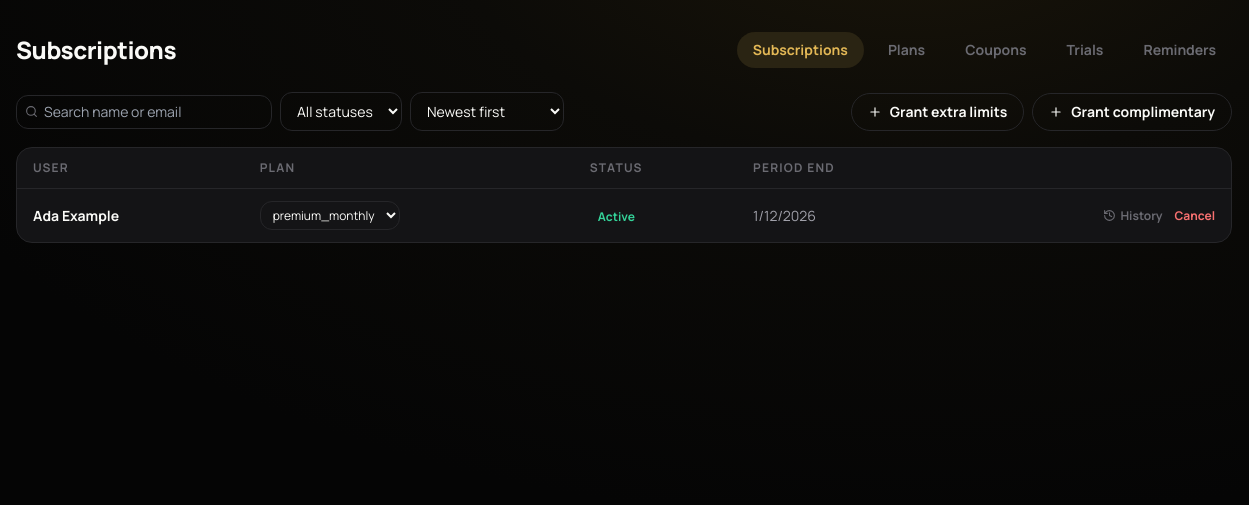
Subscriptions (admin) › shows a confirmation naming how many subscribers had auto-renew turned off when archiving a plan
Expected: the table with test id "admin-subscriptions-table" is shown, [17,148,1231,242]
Click the button with test id "admin-subscriptions-tab-plans".
click(907, 50)  # box [872,32,941,68]
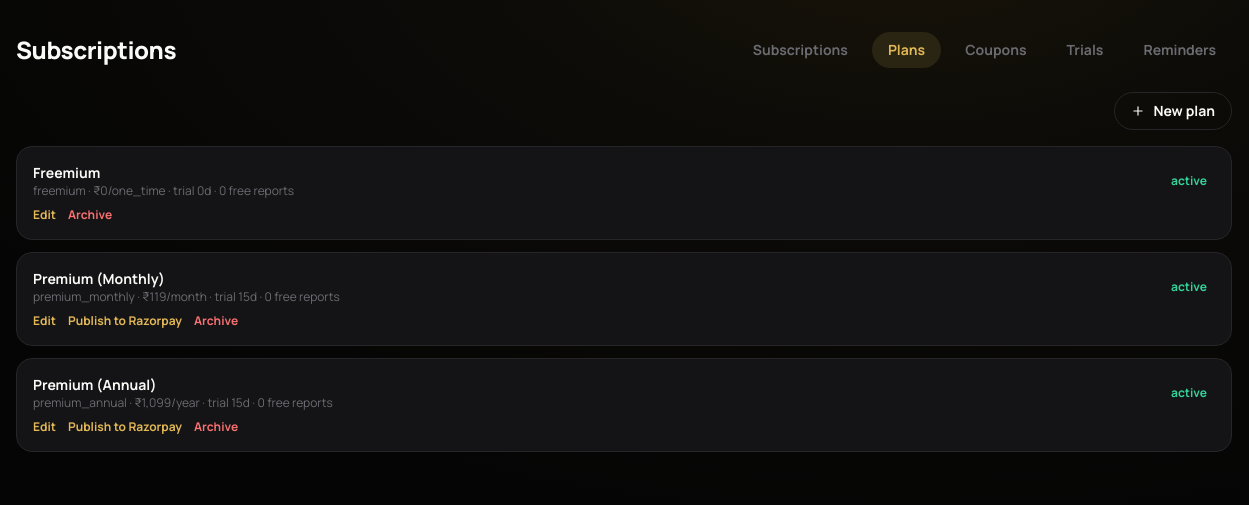
Click the button with test id "admin-plans-archive-btn-p2".
click(216, 321)  # box [194,313,238,329]
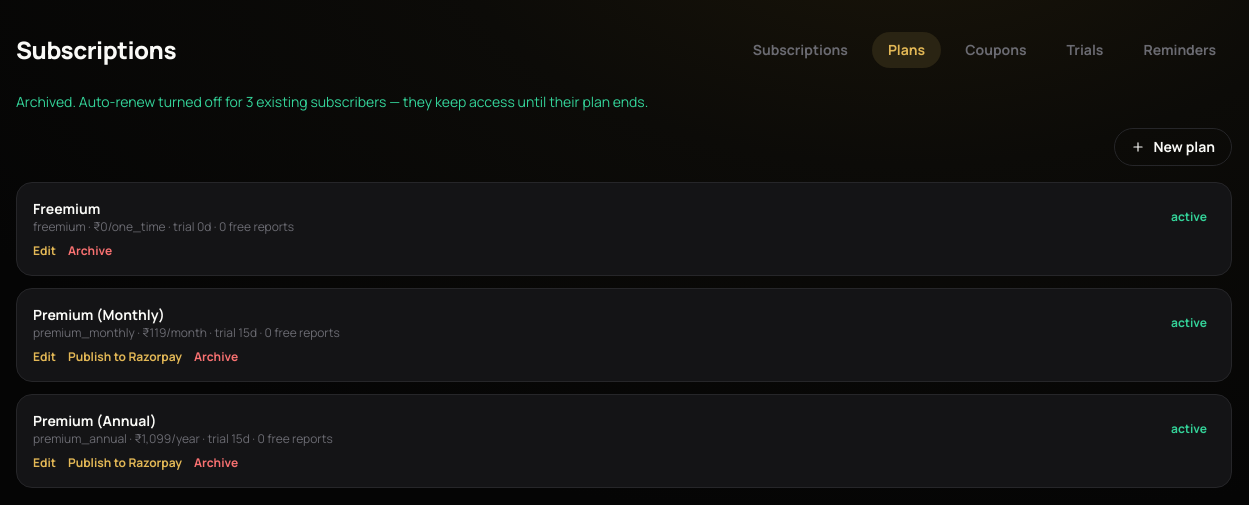
Now the text with test id "admin-subscriptions-notice" shows "Auto-renew turned off for 3 existing subscribers", box [16,92,648,111]
Now the text with test id "admin-subscriptions-notice" shows "they keep access until their plan ends", box [16,92,648,111]
